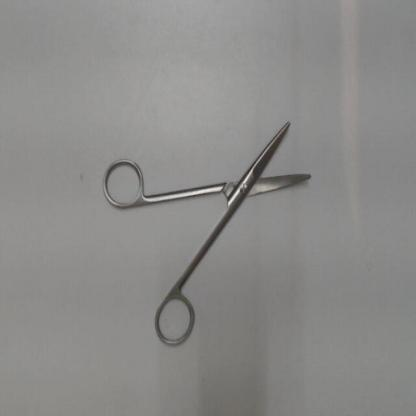Curved Mayo Scissors: (98, 115, 319, 356)
